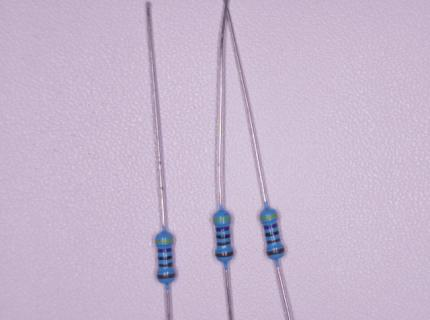Black band: (266, 230, 278, 237), (158, 255, 172, 260), (216, 234, 230, 239)
Brown band: (267, 247, 284, 256), (157, 273, 175, 279), (216, 251, 234, 257), (267, 238, 280, 244), (158, 262, 172, 267), (217, 241, 230, 246)
Violet band: (264, 223, 277, 230), (158, 247, 172, 253), (216, 226, 229, 232)
Yellow band: (261, 214, 277, 221), (155, 238, 173, 243), (213, 217, 230, 222)
